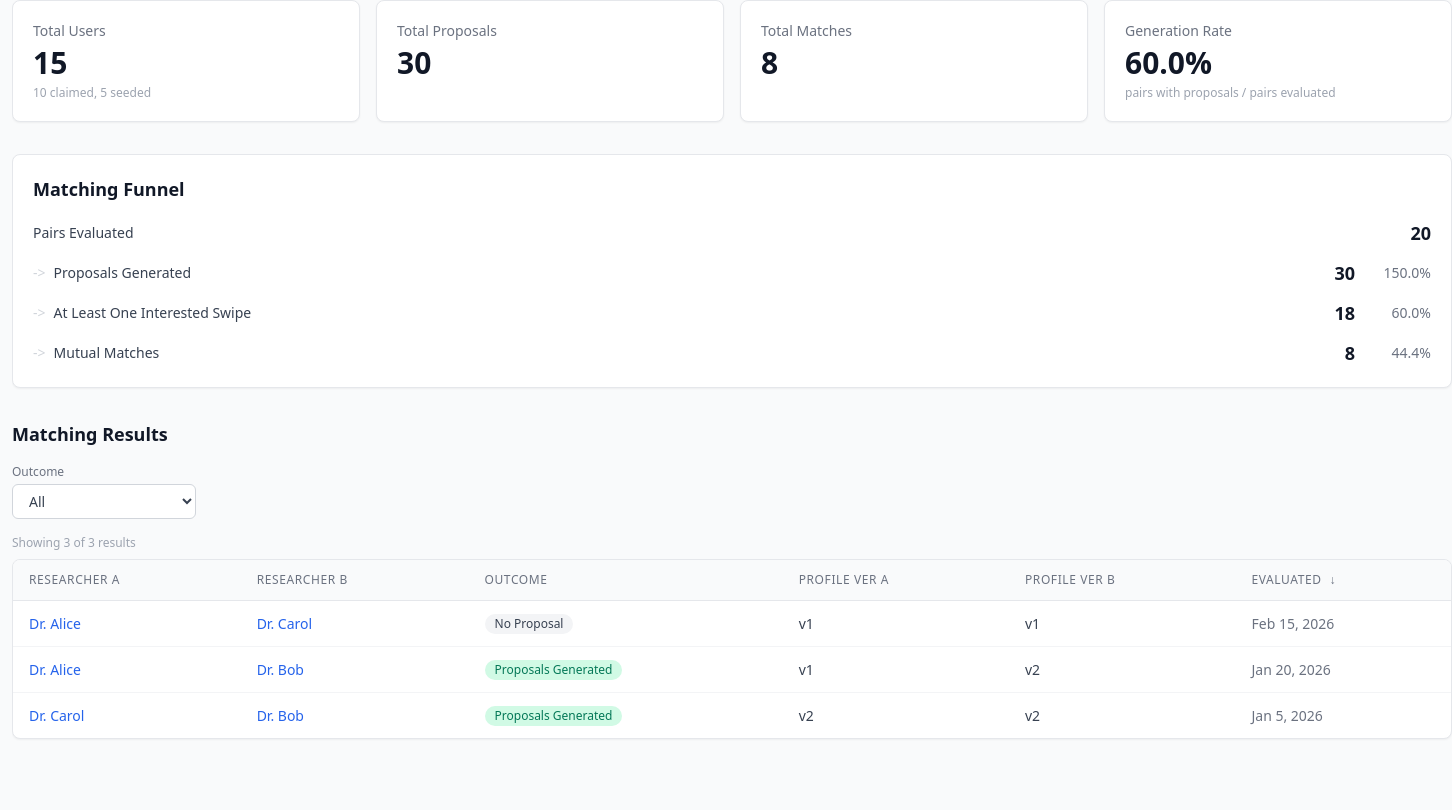
Test case: StatsDashboard › filters matching results by outcome
The image size is (1452, 810).
Step 1. Select "Proposals Generated" in the dropdown labelled "Outcome" → (104, 502), box [12,484,196,519]
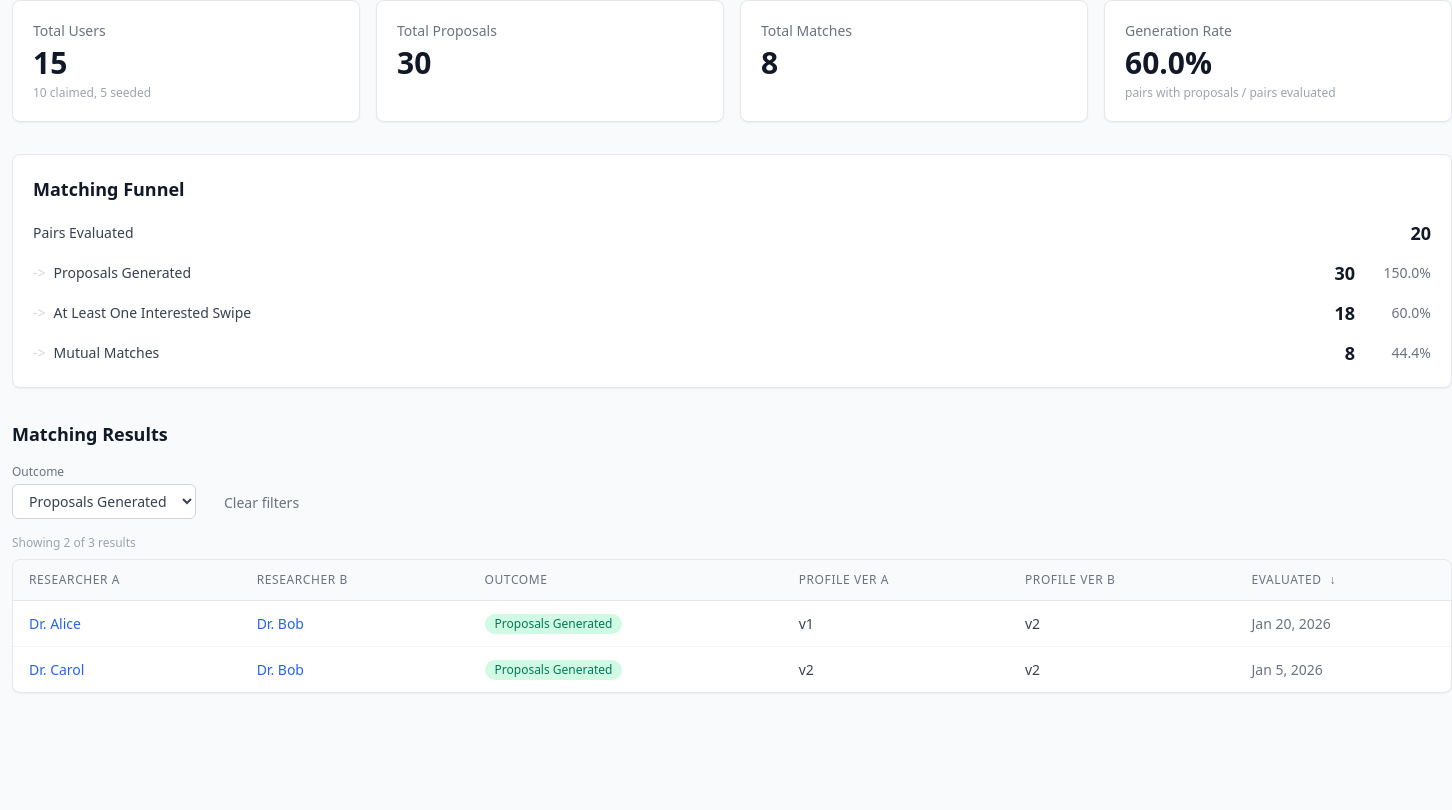
Now the text "Showing 2 of 3 results" is shown, box [12,534,136,551]
